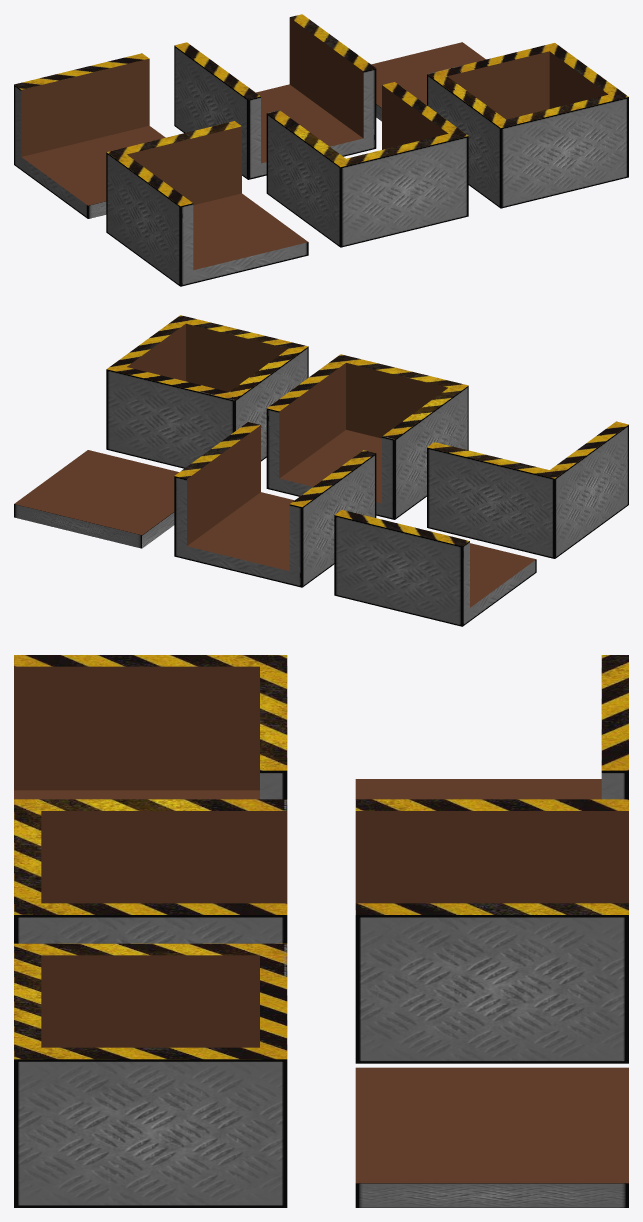
File: Holes.fbx
3 renders of one model, top to bottom at view 1: azimuth 30°, elevation 25°; view 2: azimuth 150°, elevation 25°; view 3: azimuth 270°, elevation 25°, orthographic. The views are drawn at different scales.
Parts seen in each view (by area): view 1: Cube.007, Cube.009, Cube.010, Cube.008, Cube.011, Cube.012; view 2: Cube.010, Cube.007, Cube.008, Cube.009, Cube.011, Cube.012; view 3: Cube.008, Cube.007, Cube.010, Cube.009, Cube.012, Cube.011.
Part boxes in pixels (x1,y1,x2,y2): Cube.007: (427,43,628,208); Cube.009: (106,121,308,286); Cube.010: (266,82,468,247); Cube.008: (174,14,376,179); Cube.011: (14,53,165,218); Cube.012: (371,42,485,121); Cube.010: (266,354,468,519); Cube.007: (106,315,308,468); Cube.008: (174,422,376,587); Cube.009: (427,421,628,558); Cube.011: (334,510,536,626); Cube.012: (14,450,178,548); Cube.008: (355,799,628,1063); Cube.007: (14,943,287,1207); Cube.010: (14,799,287,943); Cube.009: (14,655,287,799); Cube.012: (355,1067,628,1207); Cube.011: (355,655,628,799).
Bounding box in the file's own units: 7 × 1.2 × 4.5.
